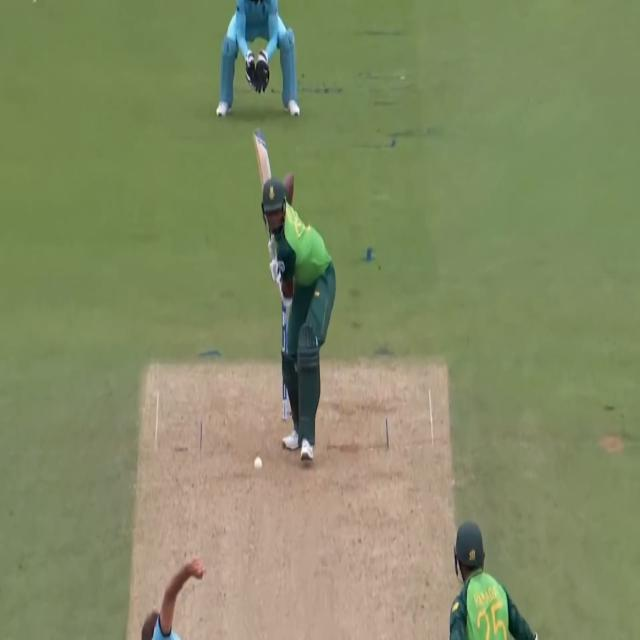ball: (250, 450, 267, 480)
